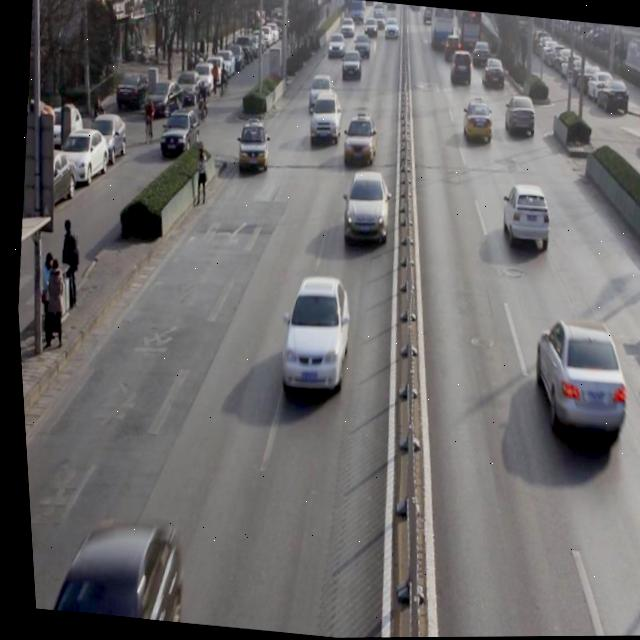car: (521, 315, 632, 453), (267, 271, 353, 404), (337, 170, 393, 253), (497, 180, 553, 255), (232, 118, 272, 178), (304, 90, 343, 149), (338, 112, 377, 169), (458, 97, 495, 145), (500, 95, 538, 140), (304, 72, 334, 115), (479, 56, 506, 94), (447, 52, 475, 87), (339, 51, 364, 80), (325, 31, 346, 62), (351, 31, 372, 62)
